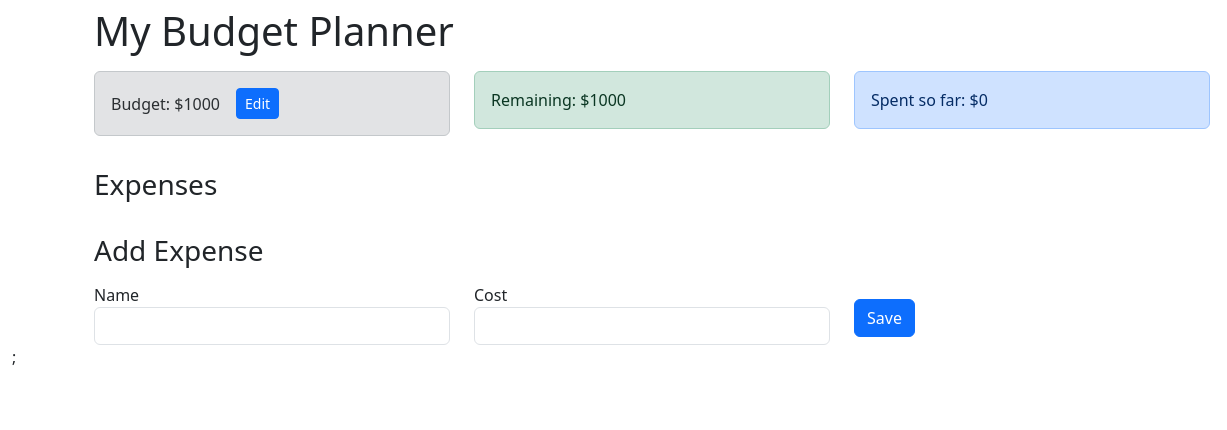
Scenario: delete an expense › resets total
The image size is (1227, 430).
Type "Test expense 1" into the field labelled "Name" at (272, 326), box [94,307,450,345]
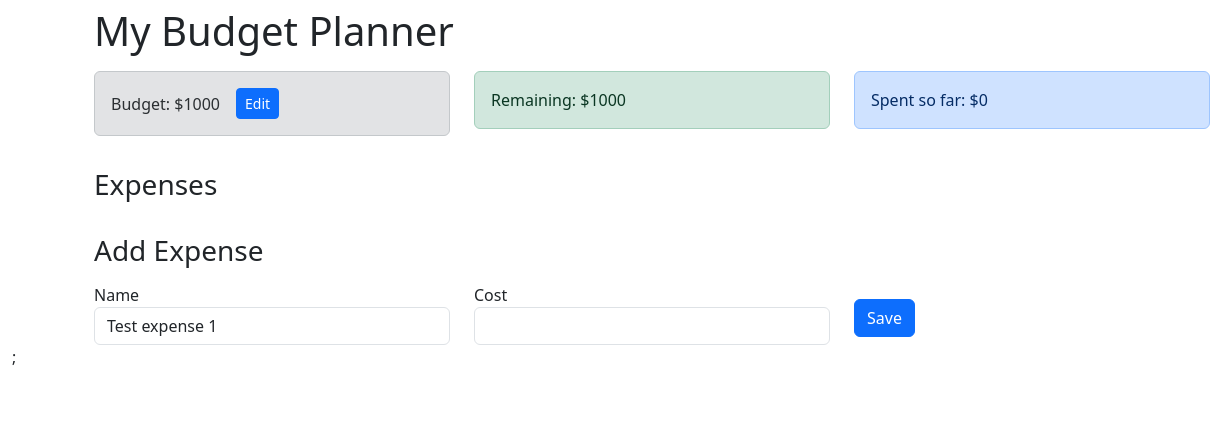
Type "9" into the field labelled "Cost" at (652, 326), box [474,307,830,345]
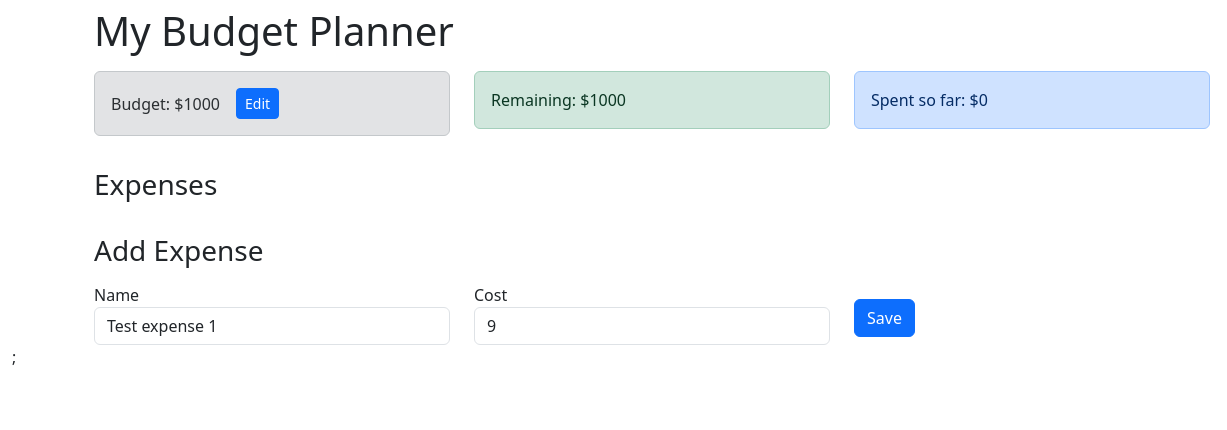
Click the button "Save" at (884, 318), box [854,299,915,337]
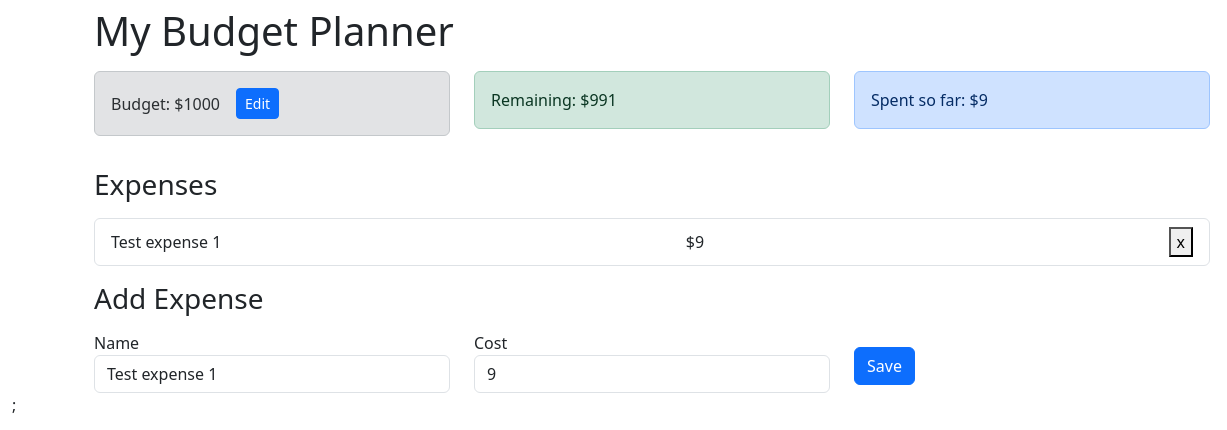
Expected: the text "Spent so far: $9" is shown, [871,89,988,111]
Expected: the text "Remaining: $991" is shown, [491,89,617,111]
Click the button with test id "deleteExpense" at (1181, 242), box [1168,227,1193,257]
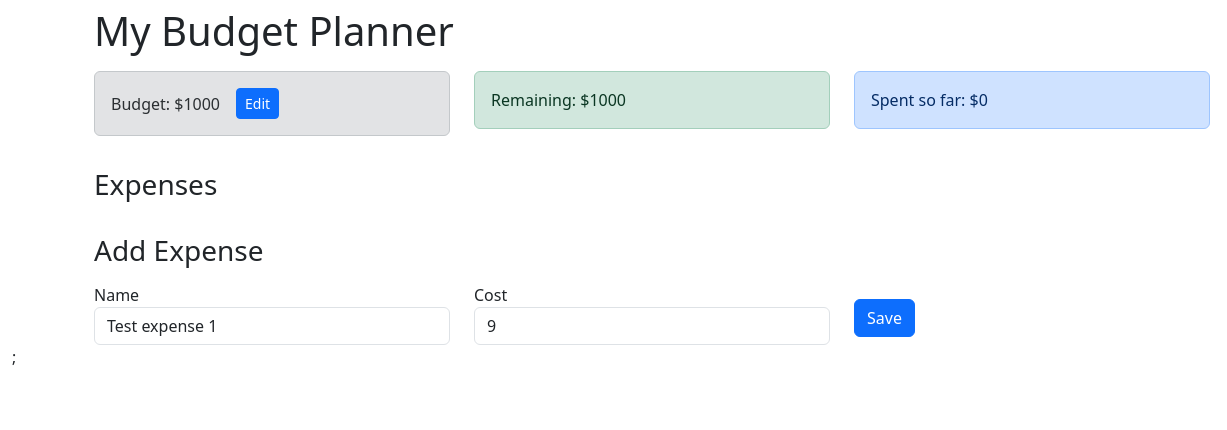
Expected: the text "Spent so far: $0" is shown, [871,89,988,111]
Expected: the text "Remaining: $1000" is shown, [491,89,626,111]
